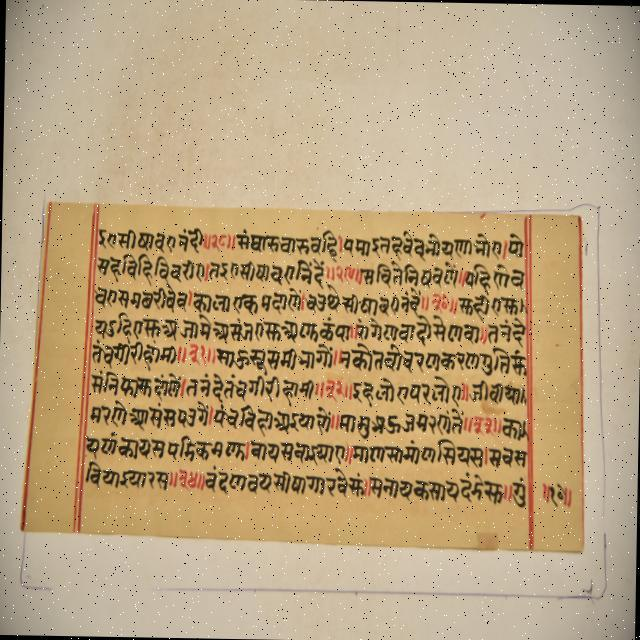text_paragraph: (18, 199, 583, 553)
